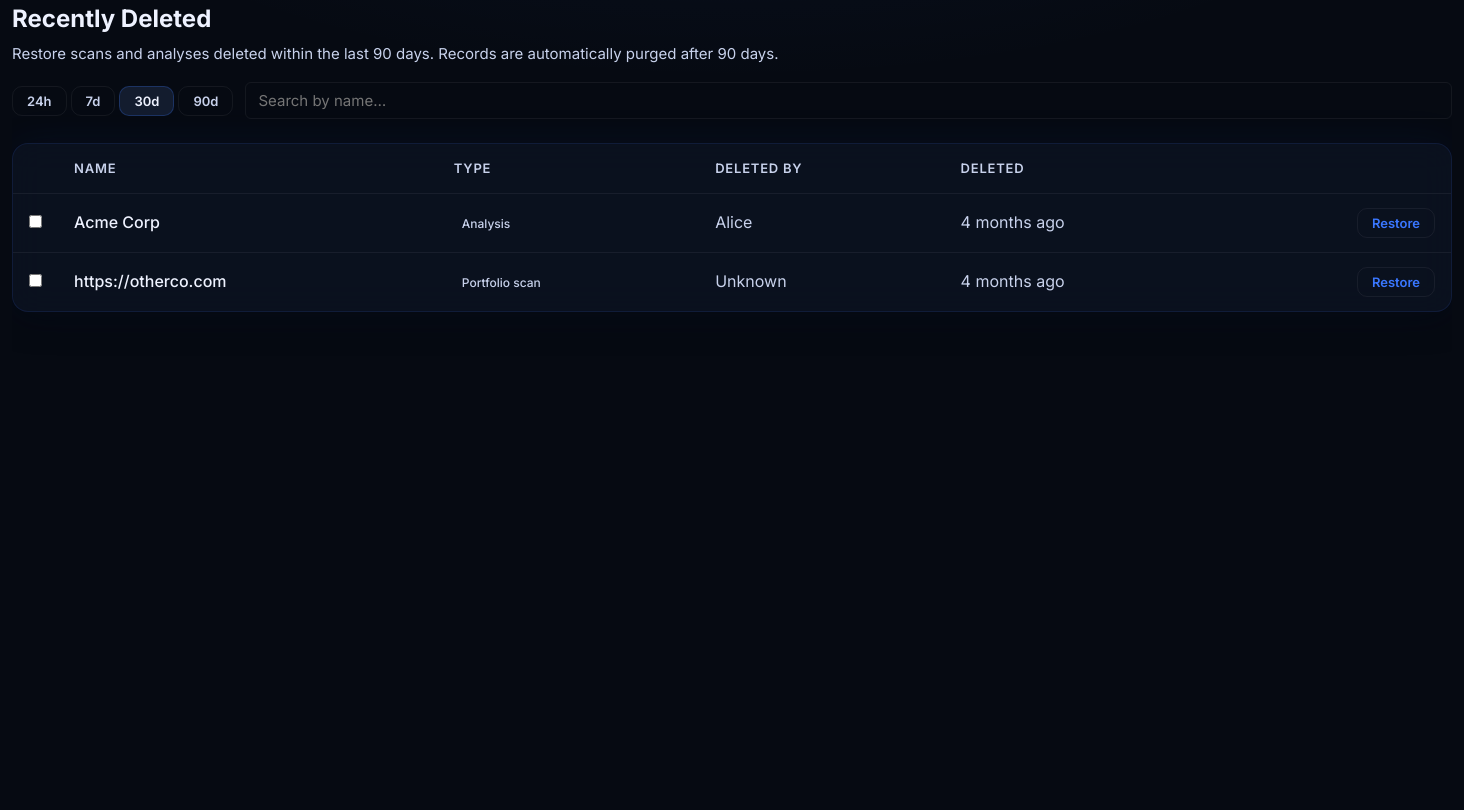
Test case: RecentlyDeletedView › selecting rows shows BulkActionsBar with Restore N label
Click the checkbox named "Select Acme Corp": (36, 222) [29,215,42,228]
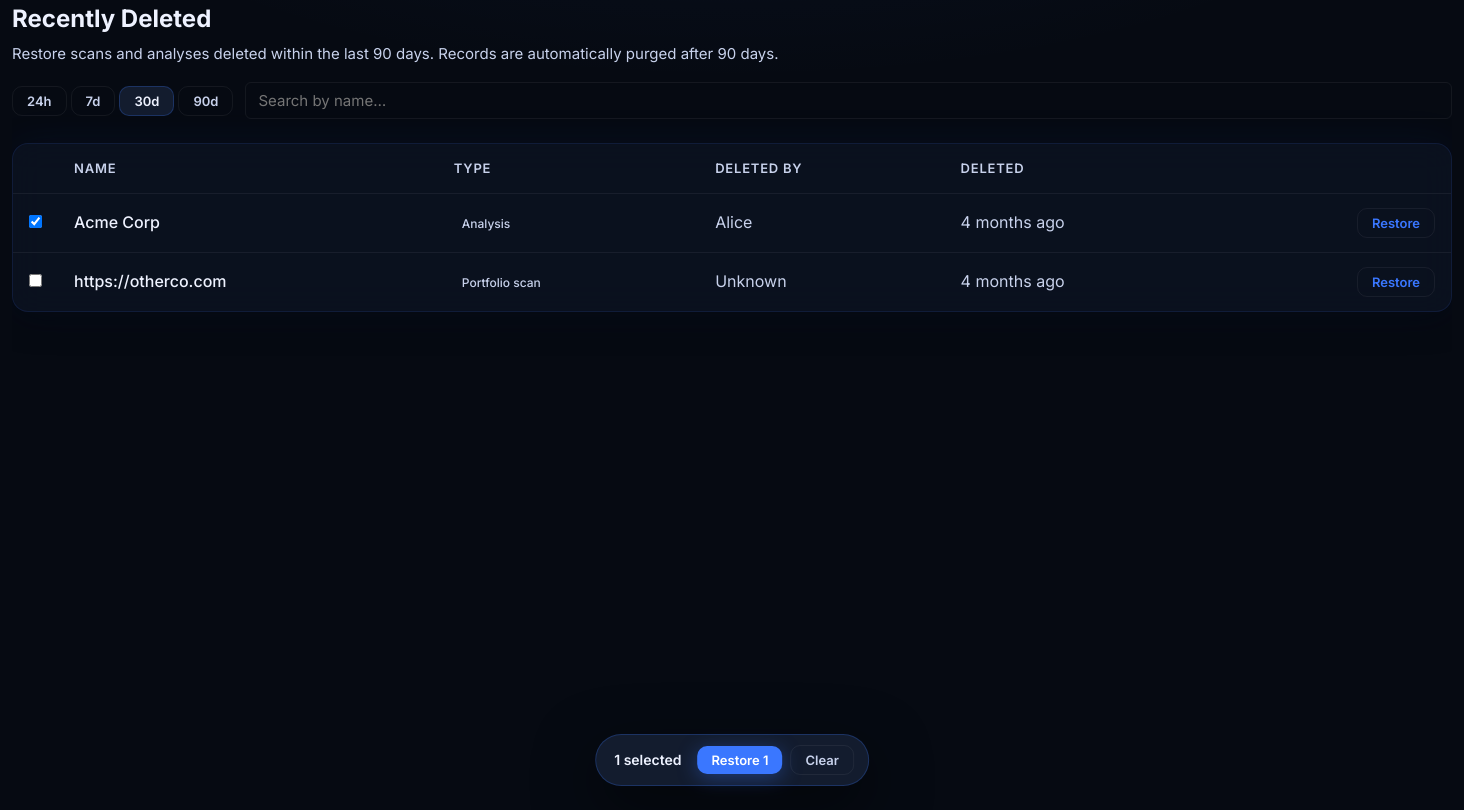
Click the checkbox named "Select https://otherco.com": (36, 281) [29,274,42,287]
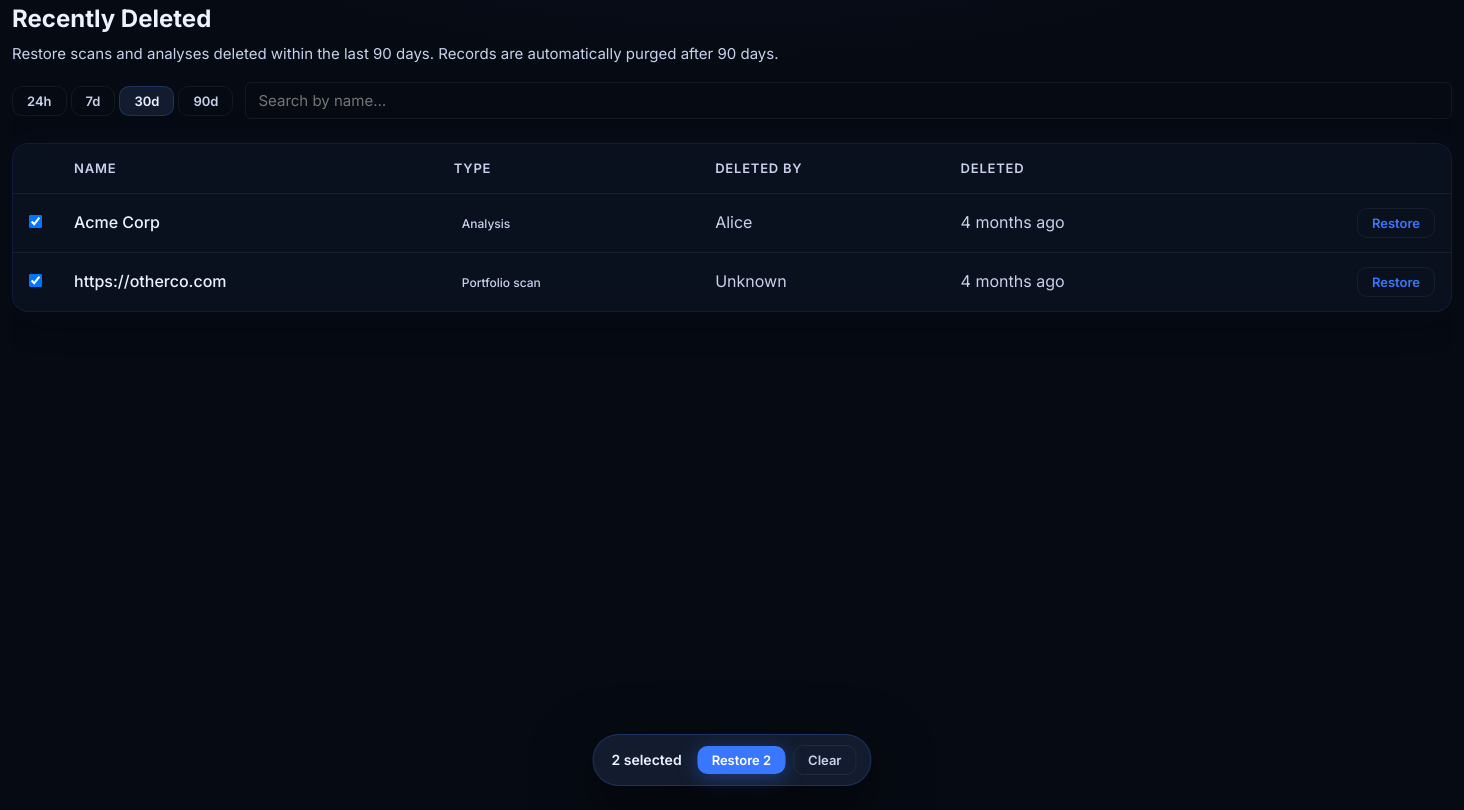
Expected: the button with aria-label "Restore 2 selected records" is shown, [698,746,785,774]
